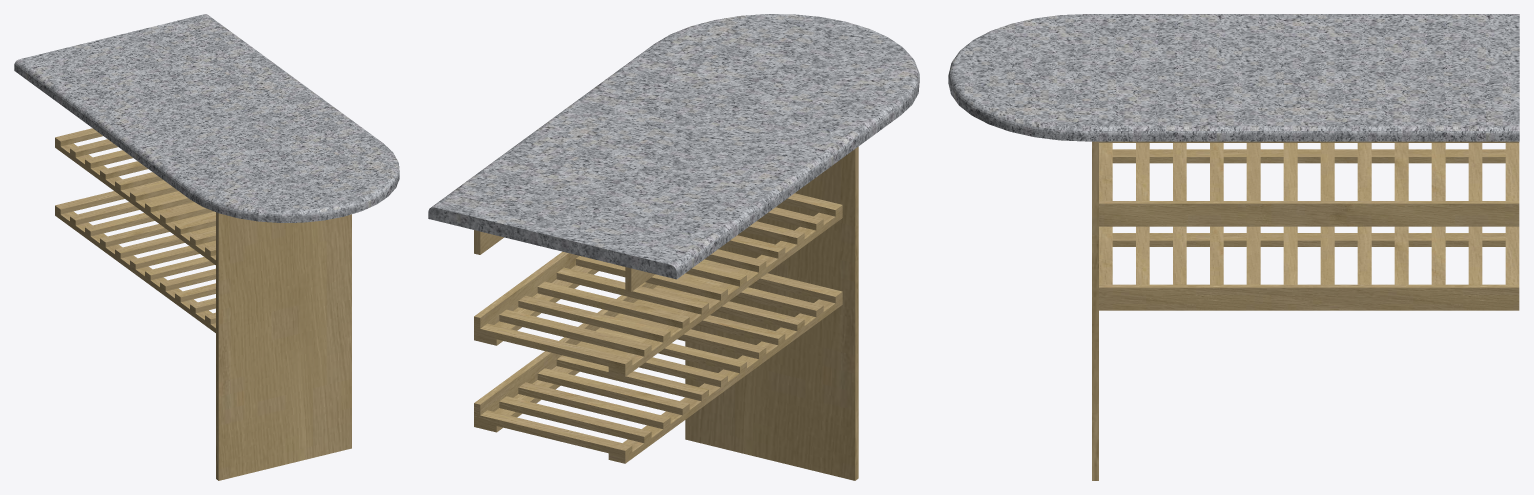
Rendered from islandExtension.obj.
The picture shows the model from 3 angles, left to right: view 1: azimuth 30°, elevation 25°; view 2: azimuth 150°, elevation 25°; view 3: azimuth 270°, elevation 25°; orthographic projection. The views are drawn at different scales.
Visible parts, largest first — view 1: Cube.003_Cube.004; view 2: Cube.003_Cube.004; view 3: Cube.003_Cube.004.
Part boxes in pixels (x1=…): Cube.003_Cube.004: x1=14, y1=14, x2=399, y2=480; Cube.003_Cube.004: x1=428, y1=14, x2=919, y2=480; Cube.003_Cube.004: x1=948, y1=14, x2=1519, y2=480.
Bounding box in the file's own units: 60 × 88.48 × 124.
